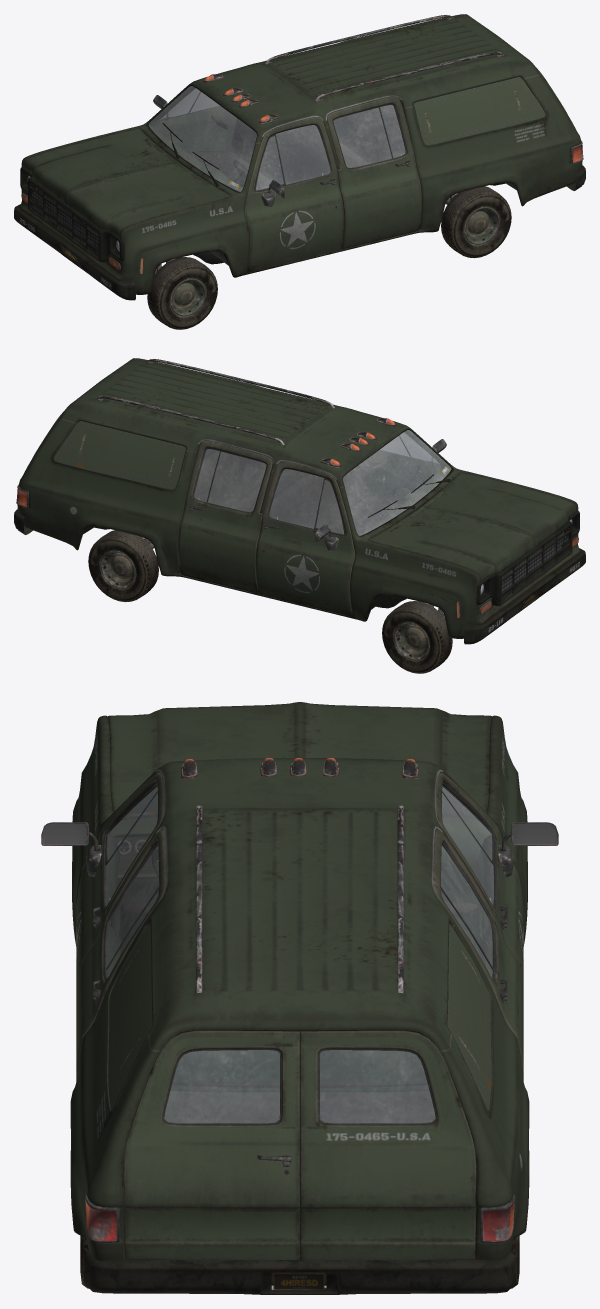
The model's file is military_truck.glb.
The picture shows the model from 3 angles, top to bottom: view 1: azimuth 30°, elevation 25°; view 2: azimuth 150°, elevation 25°; view 3: azimuth 270°, elevation 25°; orthographic projection. The views are drawn at different scales.
Parts seen in each view (by area): view 1: body_low.001, hood_low.001, frontdoors_low.001, passdoors_low.001, frontwindow_low.001, windowback_low.001, frontrigthw_low.001, seatback_low.002, Passwindows_low.001, frontgrill_low.001, fronttire_low.002, fronttire_low.003 (+11 smaller); view 2: body_low.001, hood_low.001, frontdoors_low.001, passdoors_low.001, frontwindow_low.001, windowback_low.001, frontrigthw_low.001, seatback_low.002, Passwindows_low.001, frontgrill_low.001, fronttire_low.002, fronttire_low.003 (+11 smaller); view 3: body_low.001, backdoor_low.001, hood_low.001, backdoorwin_low.001, bumperback_low.001, windowback_low.001, passdoors_low.001, seatback_low.003, frontdoors_low.001, floor_low.001, frontrigthw_low.001, Passwindows_low.001 (+11 smaller).
Part boxes in pixels (box(x1,y1,x2,y2)): body_low.001: box(19, 14, 582, 294); hood_low.001: box(23, 128, 231, 237); frontdoors_low.001: box(145, 87, 344, 272); passdoors_low.001: box(327, 97, 421, 249); frontwindow_low.001: box(148, 86, 256, 191); windowback_low.001: box(414, 77, 545, 145); frontrigthw_low.001: box(161, 89, 330, 190); seatback_low.002: box(232, 118, 330, 184); Passwindows_low.001: box(333, 105, 405, 167); frontgrill_low.001: box(20, 167, 124, 262); fronttire_low.002: box(62, 247, 217, 329); fronttire_low.003: box(441, 186, 511, 258); body_low.001: box(17, 358, 580, 638); hood_low.001: box(368, 472, 576, 581); frontdoors_low.001: box(255, 431, 449, 616); passdoors_low.001: box(178, 441, 272, 593); frontwindow_low.001: box(343, 430, 451, 535); windowback_low.001: box(54, 421, 185, 489); frontrigthw_low.001: box(269, 432, 438, 534); seatback_low.002: box(269, 462, 367, 528); Passwindows_low.001: box(194, 449, 266, 511); frontgrill_low.001: box(476, 511, 579, 606); fronttire_low.002: box(382, 591, 537, 673); fronttire_low.003: box(88, 530, 158, 602); body_low.001: box(70, 715, 529, 1285); backdoor_low.001: box(123, 1030, 476, 1259); hood_low.001: box(108, 702, 491, 812); backdoorwin_low.001: box(164, 1050, 435, 1123); bumperback_low.001: box(84, 1252, 515, 1294); windowback_low.001: box(108, 924, 491, 1110); passdoors_low.001: box(76, 829, 523, 1076); seatback_low.003: box(172, 1050, 427, 1087); frontdoors_low.001: box(76, 773, 523, 992); floor_low.001: box(124, 1091, 435, 1198); frontrigthw_low.001: box(106, 787, 493, 905); Passwindows_low.001: box(107, 845, 492, 977).
Size of the model in its own units: 4.91 by 1.74 by 2.32.
Materials: 3 (3 with a texture image).
